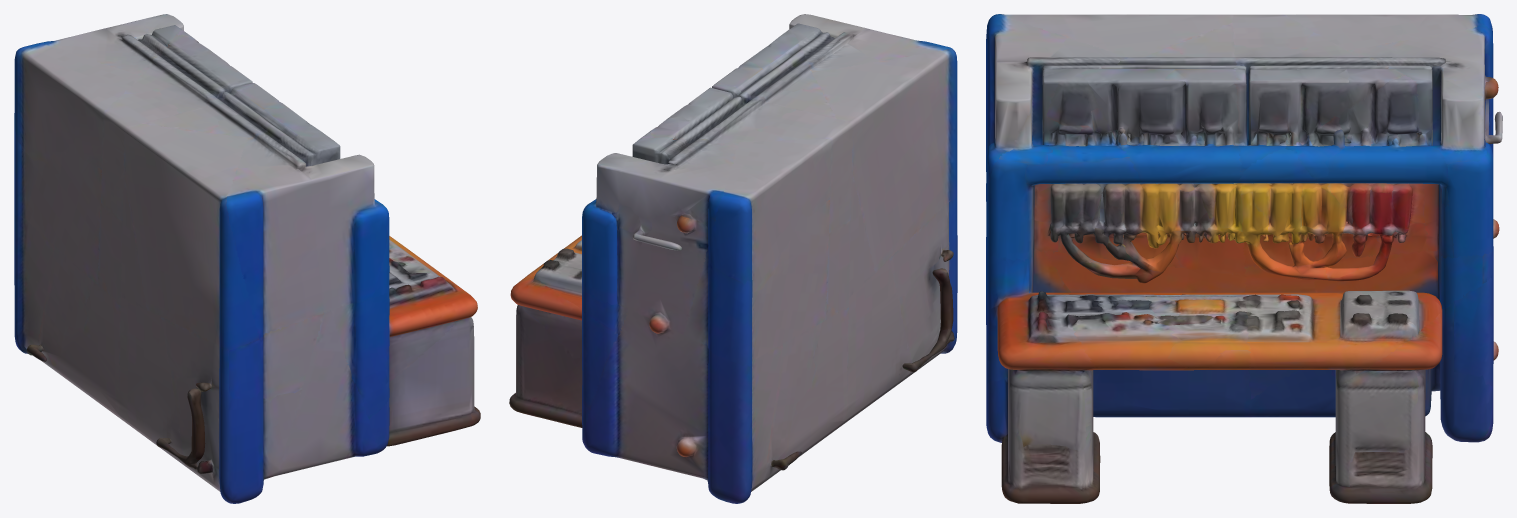
The model's file is guild_electrical_workshop.glb.
3 renders of one model, left to right at view 1: azimuth 30°, elevation 25°; view 2: azimuth 150°, elevation 25°; view 3: azimuth 270°, elevation 25°, orthographic. The views are drawn at different scales.
Parts seen in each view (by area): view 1: tripo_node_8cc247e5-55b1-47cb-a84e-b0ec67aec999; view 2: tripo_node_8cc247e5-55b1-47cb-a84e-b0ec67aec999; view 3: tripo_node_8cc247e5-55b1-47cb-a84e-b0ec67aec999.
Boxes of the visible parts, bbox=[...] form: tripo_node_8cc247e5-55b1-47cb-a84e-b0ec67aec999: bbox=[14, 14, 480, 503]; tripo_node_8cc247e5-55b1-47cb-a84e-b0ec67aec999: bbox=[509, 14, 957, 503]; tripo_node_8cc247e5-55b1-47cb-a84e-b0ec67aec999: bbox=[986, 14, 1502, 503].
Bounding box in the file's own units: 0.7003 × 0.7478 × 0.9491.
1 material, 1 textured.
